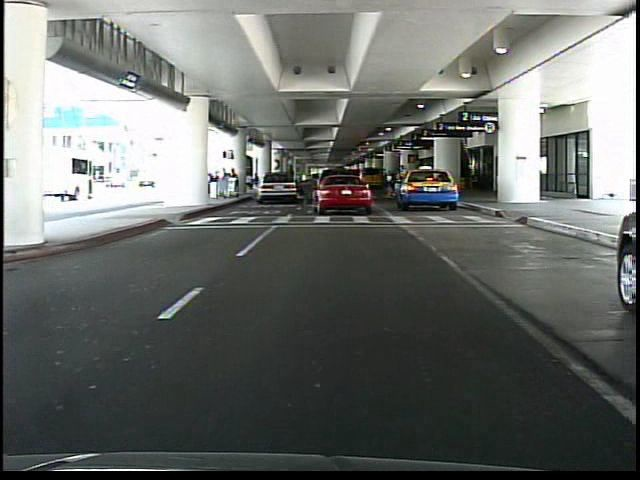person: (286, 165, 300, 202)
